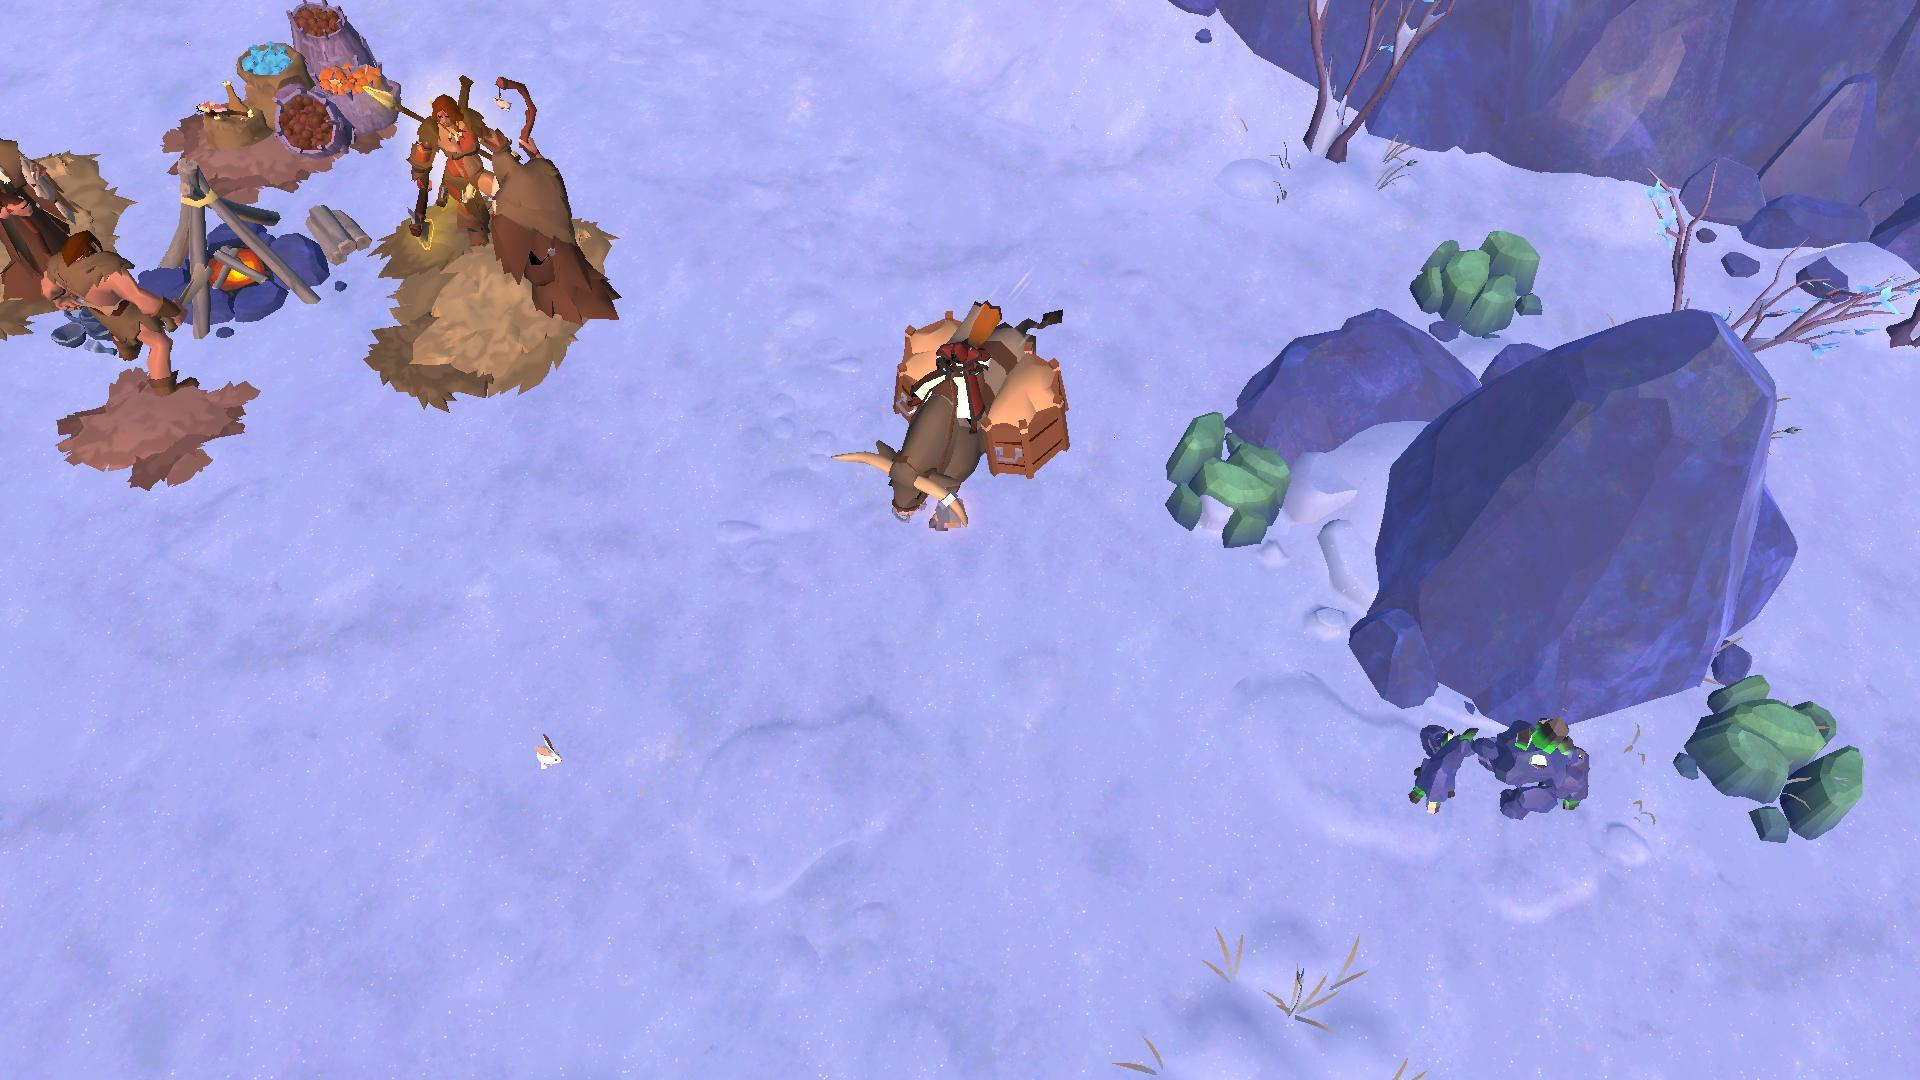enemy_factionKeeper: (480, 138, 622, 330), (37, 227, 195, 390), (405, 92, 517, 247)
rock_t3: (1688, 670, 1865, 849), (1154, 406, 1292, 556), (1404, 219, 1548, 340)
